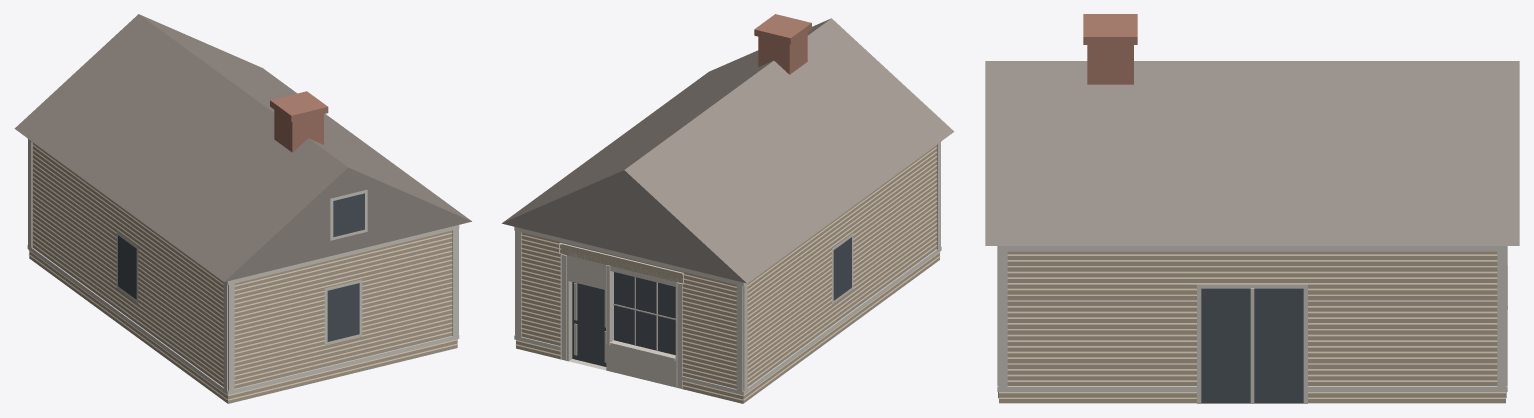
The model's file is inf_grocery_west__inferred_1835.glb.
The picture shows the model from 3 angles, left to right: view 1: azimuth 30°, elevation 25°; view 2: azimuth 150°, elevation 25°; view 3: azimuth 270°, elevation 25°; orthographic projection. The views are drawn at different scales.
Visible parts, largest first — view 1: inf_grocery_west__inferred_1835; view 2: inf_grocery_west__inferred_1835; view 3: inf_grocery_west__inferred_1835.
Boxes of the visible parts, <box> form: inf_grocery_west__inferred_1835: <box>14,14,471,403</box>; inf_grocery_west__inferred_1835: <box>502,14,954,403</box>; inf_grocery_west__inferred_1835: <box>985,14,1519,403</box>.
Bounding box in the file's own units: 6.6 × 6.1 × 9.68.
